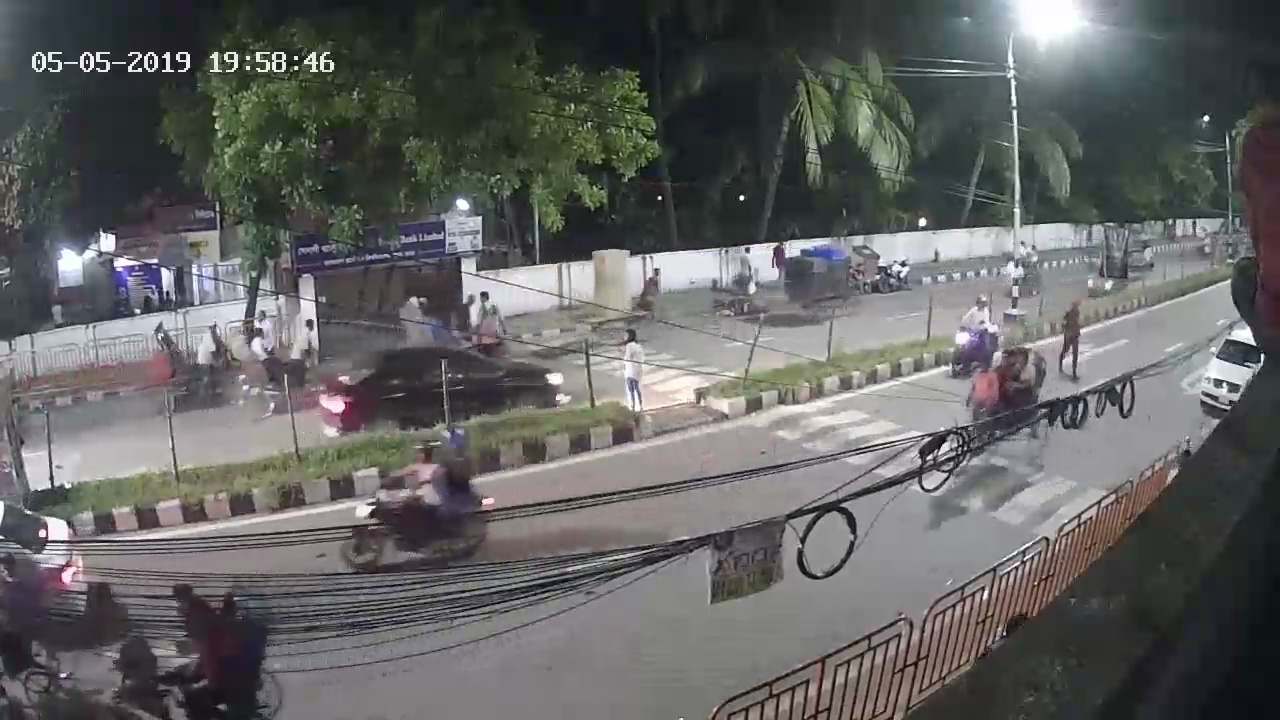fast_in: (1, 498, 85, 633), (347, 492, 492, 568), (1193, 322, 1268, 416), (947, 327, 1005, 379)
fast_out: (316, 340, 571, 438), (1082, 244, 1123, 298)
slow_in: (85, 581, 292, 720), (934, 344, 1055, 474), (1, 605, 82, 719)
slow_out: (228, 329, 325, 421), (398, 295, 517, 368), (149, 321, 244, 412), (570, 305, 661, 349), (788, 289, 855, 322), (1019, 253, 1046, 315), (1128, 231, 1158, 283)
